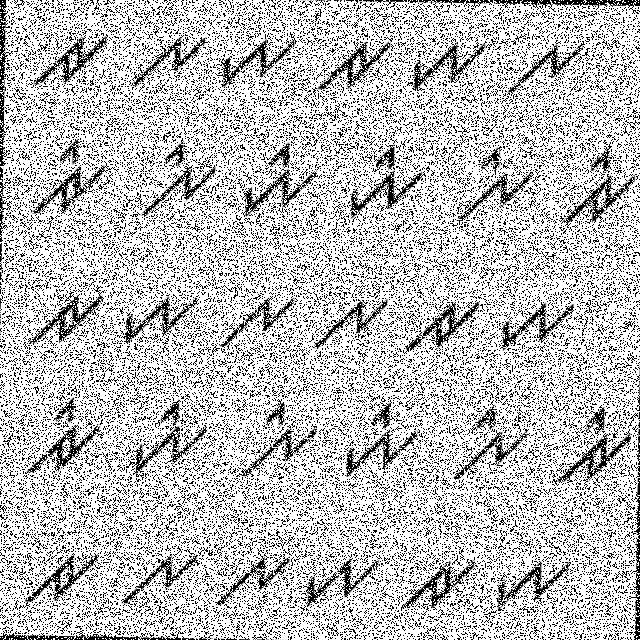la: (119, 530, 200, 610), (308, 280, 392, 354), (502, 31, 588, 97), (124, 25, 208, 91), (218, 282, 298, 350), (214, 547, 292, 613)
li: (444, 396, 534, 486), (454, 139, 540, 227), (134, 134, 218, 218), (239, 394, 319, 480)
ra: (18, 538, 106, 610), (24, 27, 110, 99), (19, 284, 108, 353), (396, 545, 476, 620), (406, 292, 484, 360), (311, 31, 394, 94)
ri: (20, 388, 106, 479), (27, 130, 112, 220), (556, 137, 640, 228), (551, 400, 633, 490)
ya: (488, 286, 578, 361), (304, 542, 384, 610), (214, 24, 297, 89), (492, 548, 577, 611), (116, 282, 200, 345), (406, 34, 487, 92)
yi: (124, 392, 214, 479), (337, 136, 428, 222), (235, 134, 321, 217), (338, 397, 422, 479)
